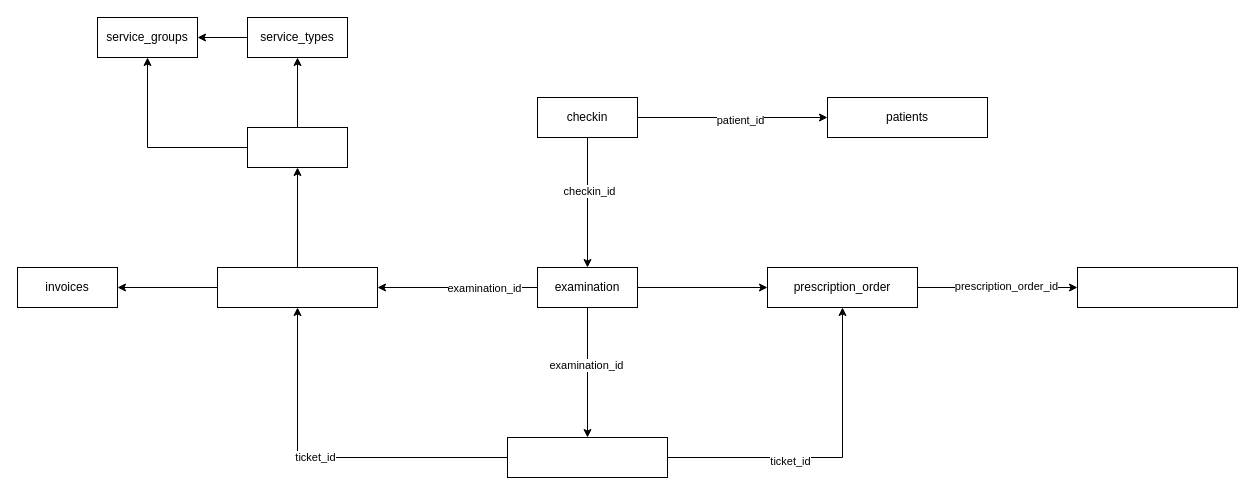
Some shapes in this 1255 by 495 pixel diagram are drawn without their labels. Here are the shapes that lost their labels. From the top down, the centre of each, then its label:
At point (297, 147): "services".
At point (297, 287): "examination_orders".
At point (1157, 287): "prescription_order_item".
At point (587, 457): "examination_tickets".
